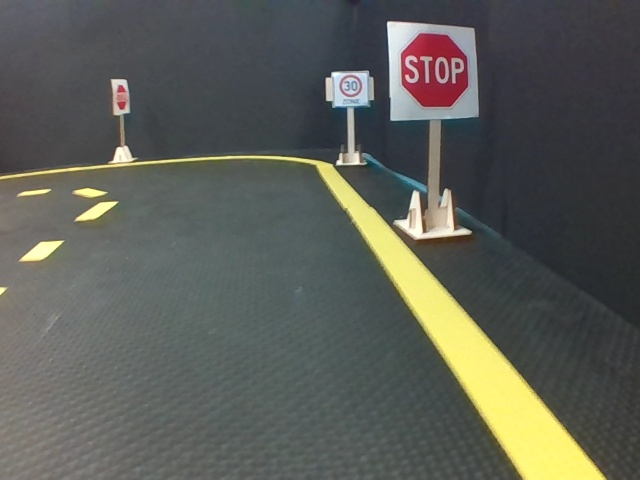30: (333, 71, 368, 105)
stop: (388, 20, 477, 119), (112, 77, 129, 114)
